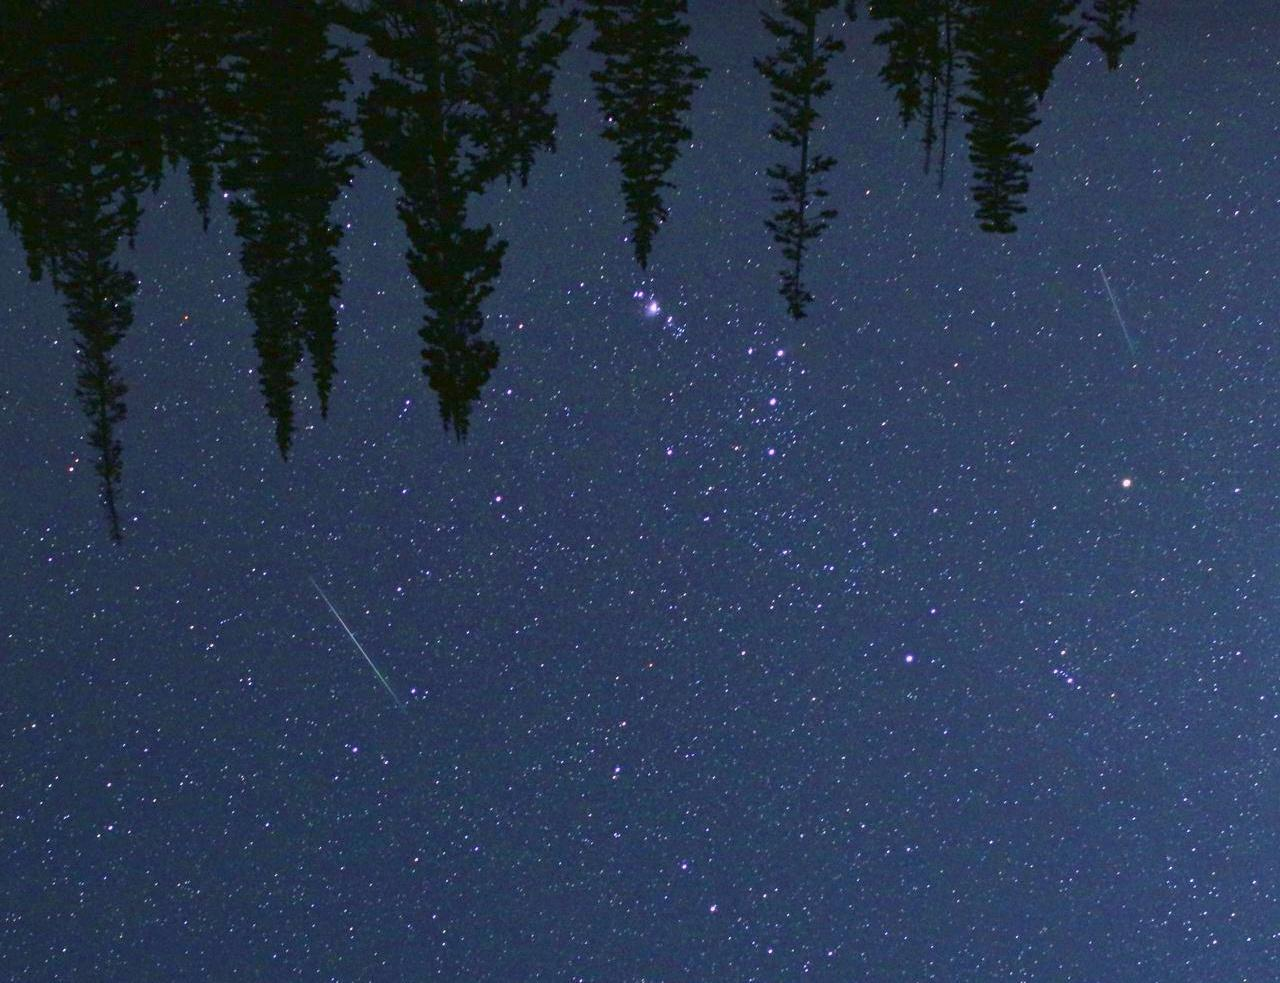meteorite: (288, 578, 431, 710), (1076, 258, 1148, 373)
